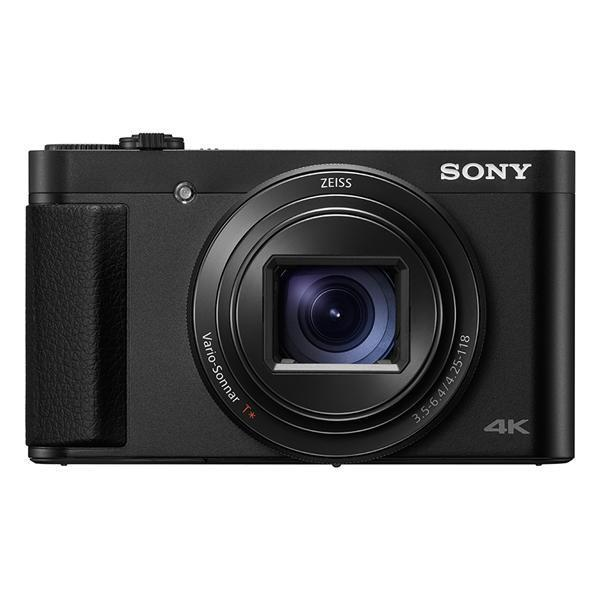degital-camera: (18, 123, 583, 479)
